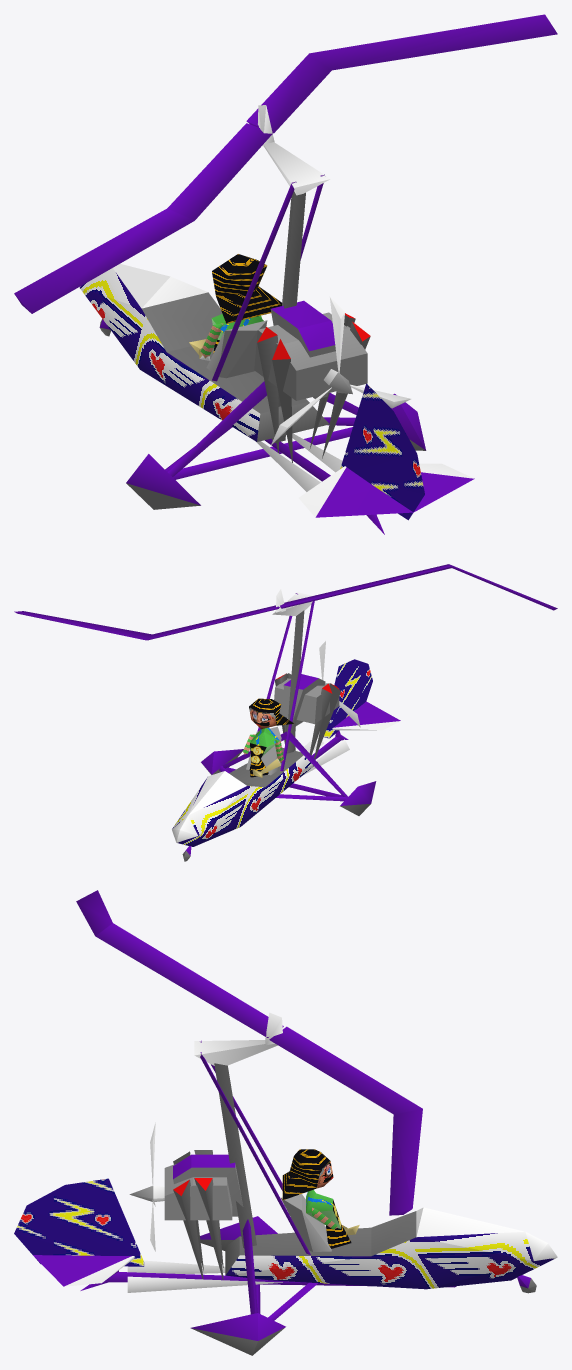
The model's file is uvmd-0313.glb.
The picture shows the model from 3 angles, top to bottom: view 1: azimuth 30°, elevation 25°; view 2: azimuth 150°, elevation 25°; view 3: azimuth 270°, elevation 25°; orthographic projection. The views are drawn at different scales.
Parts seen in each view (by area): view 1: uvmd-0313; view 2: uvmd-0313; view 3: uvmd-0313.
Part boxes in pixels (x1,y1,x2,y2): uvmd-0313: (14, 14, 557, 534); uvmd-0313: (14, 564, 557, 861); uvmd-0313: (14, 890, 557, 1355).
Size of the model in its own units: 478 by 241 by 384.
Materials: 8 (8 with a texture image).
